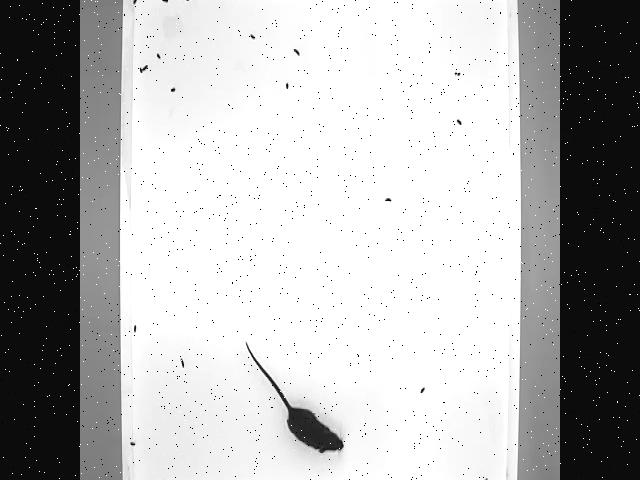Tikus: (244, 340, 346, 454)
